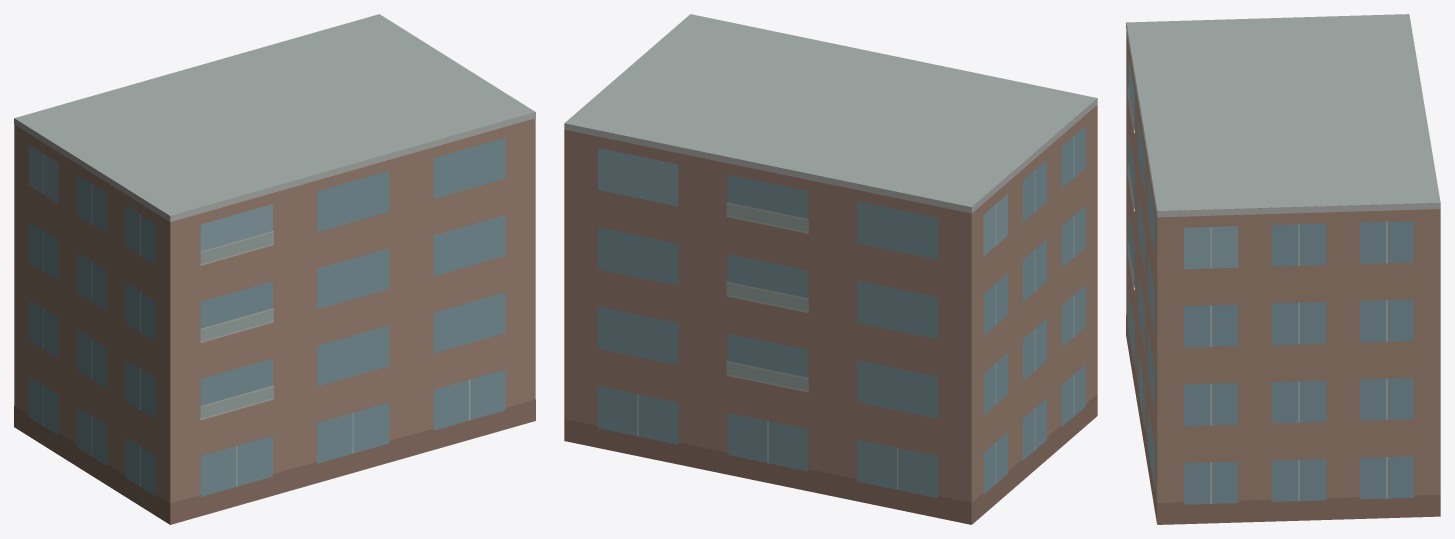
Rendered from residential-23c84ea4-2717-4e69-b966-54cbe40e7188.glb.
The picture shows the model from 3 angles, left to right: view 1: azimuth 30°, elevation 25°; view 2: azimuth 150°, elevation 25°; view 3: azimuth 270°, elevation 25°; orthographic projection. The views are drawn at different scales.
Parts seen in each view (by area): view 1: residential-23c84ea4-2717-4e69-b966-54cbe40e7188.tmp; view 2: residential-23c84ea4-2717-4e69-b966-54cbe40e7188.tmp; view 3: residential-23c84ea4-2717-4e69-b966-54cbe40e7188.tmp.
Part boxes in pixels (x1=…): residential-23c84ea4-2717-4e69-b966-54cbe40e7188.tmp: x1=14, y1=14, x2=535, y2=524; residential-23c84ea4-2717-4e69-b966-54cbe40e7188.tmp: x1=564, y1=14, x2=1097, y2=524; residential-23c84ea4-2717-4e69-b966-54cbe40e7188.tmp: x1=1126, y1=14, x2=1440, y2=524.
Bounding box in the file's own units: 16.44 × 12.2 × 11.09.
